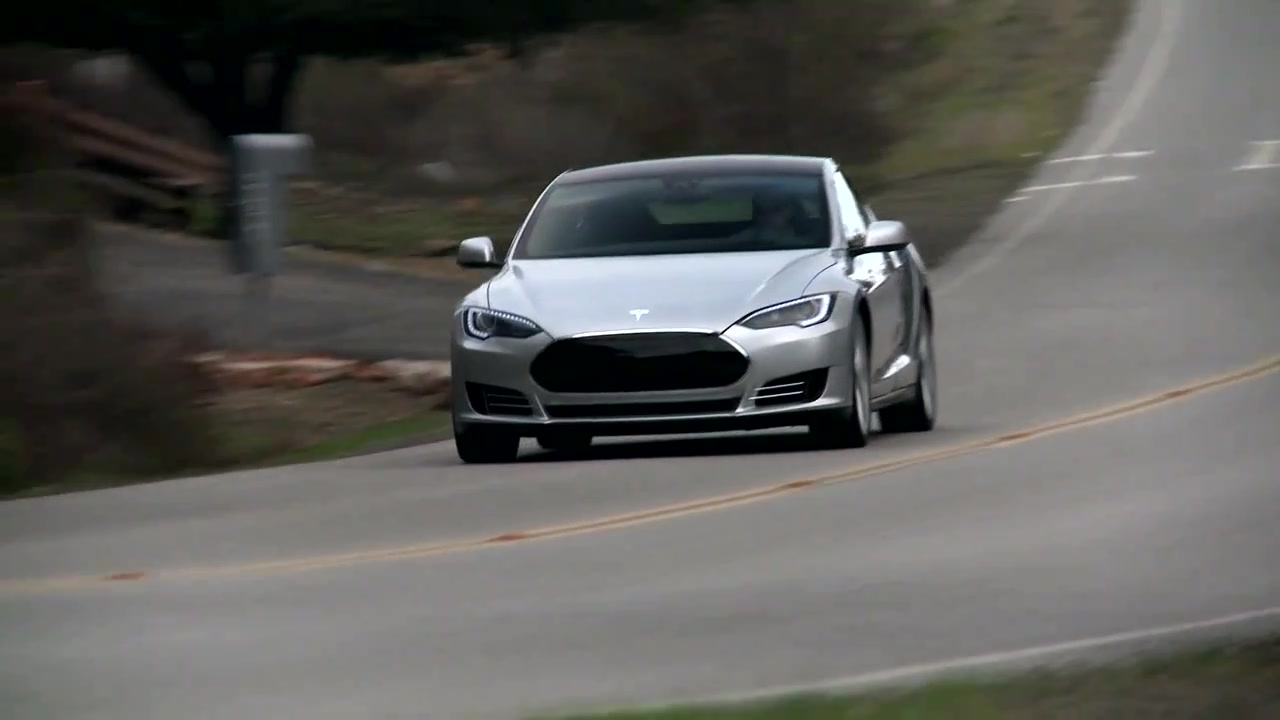car: (434, 144, 942, 466)
